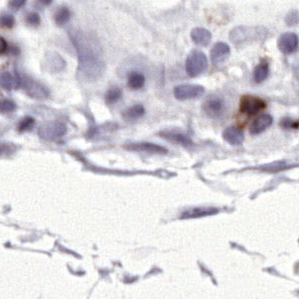Lymphocyte: (239, 93, 266, 126)
